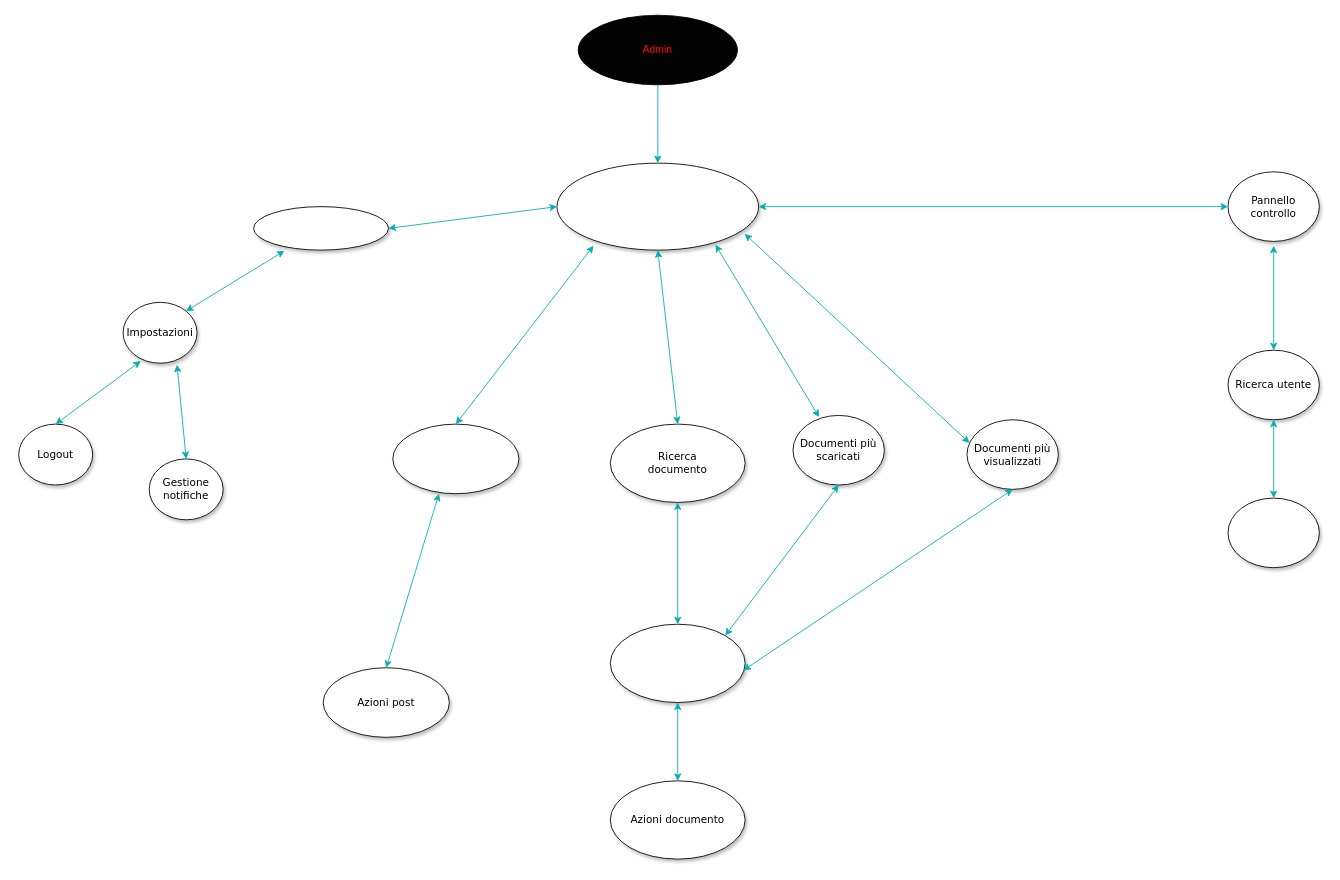
The diagram is 1340 pixels wide and 880 high, and some of its shapes have lost their labels. Here are the shapes that lost their labels. From the top down, the centre of each, then its label:
[658,207]: Homepage
[321,229]: Area Login
[456,460]: Posts
[1274,534]: Account utente cambia stato
[678,664]: Documento
